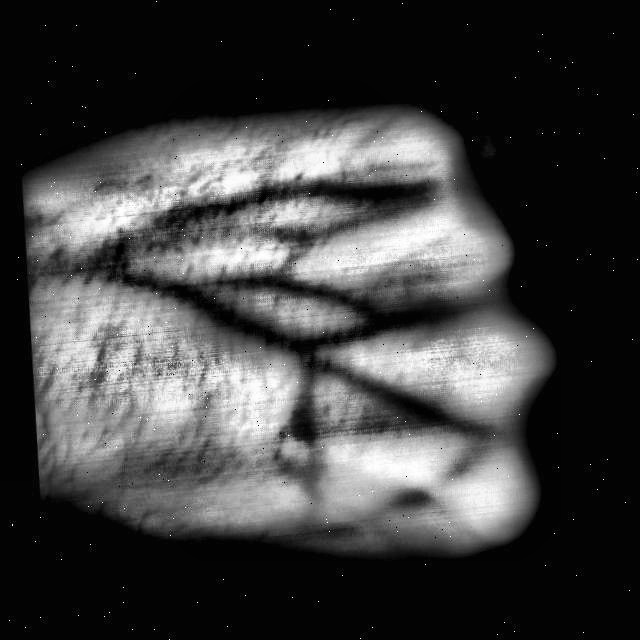Vein: (106, 251, 320, 377)
